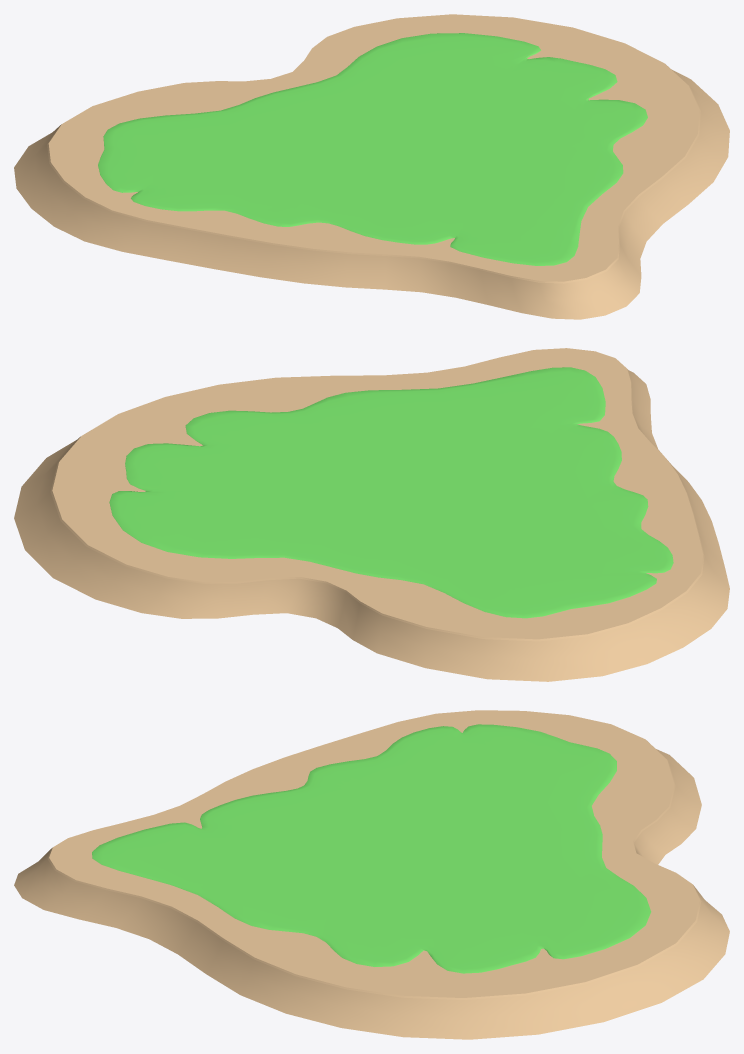
Rendered from Island05.fbx.
3 views of the same model, one above another, from view 1: azimuth 30°, elevation 25°; view 2: azimuth 150°, elevation 25°; view 3: azimuth 270°, elevation 25° (orthographic). The views are drawn at different scales.
Parts seen in each view (by area): view 1: Plane.001, Plane; view 2: Plane.001, Plane; view 3: Plane.001, Plane.
Boxes of the visible parts, x1=… form: Plane.001: x1=98, y1=33, x2=647, y2=265; Plane: x1=14, y1=14, x2=729, y2=319; Plane.001: x1=109, y1=367, x2=673, y2=618; Plane: x1=14, y1=348, x2=729, y2=681; Plane.001: x1=92, y1=724, x2=651, y2=973; Plane: x1=14, y1=710, x2=729, y2=1039.
Bounding box in the file's own units: 33252 × 1330 × 31767.
